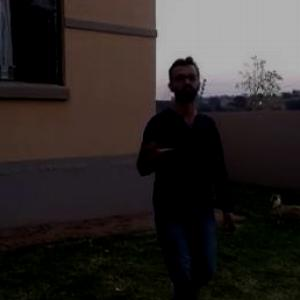land_hand: (135, 120, 173, 166)
